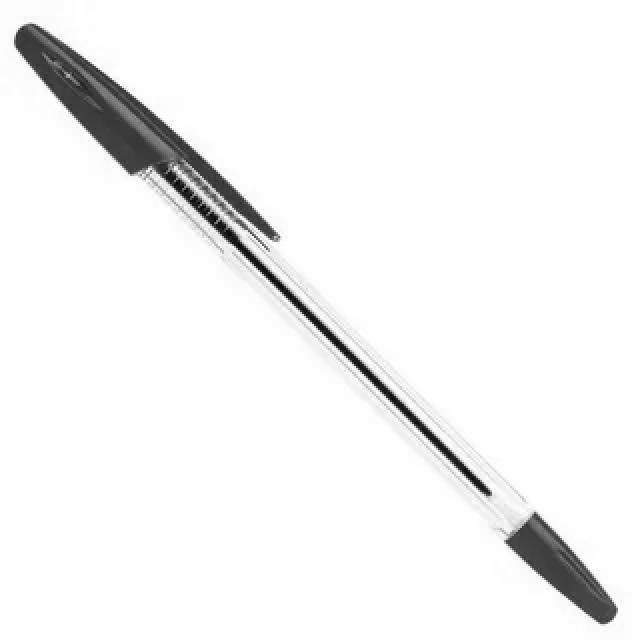pencil: (5, 17, 616, 640)
